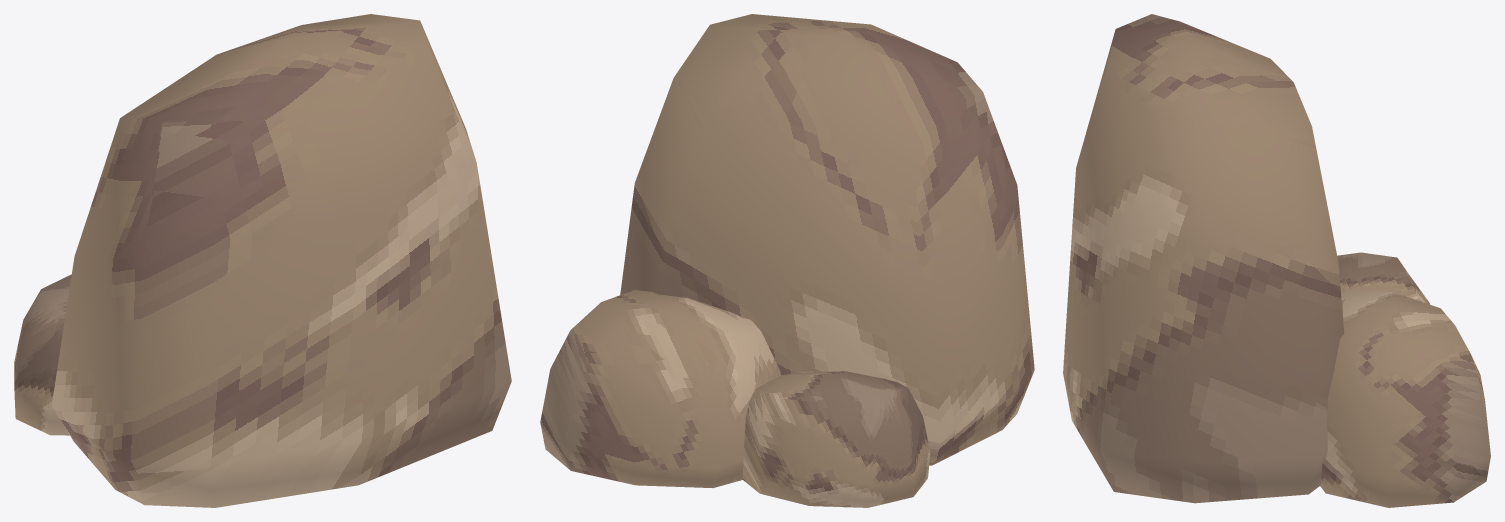
The model's file is rock1.glb.
The picture shows the model from 3 angles, left to right: view 1: azimuth 30°, elevation 25°; view 2: azimuth 150°, elevation 25°; view 3: azimuth 270°, elevation 25°; orthographic projection. The views are drawn at different scales.
Visible parts, largest first — view 1: Bombable Rock.001_Tiles2_0.001; view 2: Bombable Rock.001_Tiles2_0.001; view 3: Bombable Rock.001_Tiles2_0.001.
Boxes of the visible parts, <box> form: Bombable Rock.001_Tiles2_0.001: <box>14,14,511,507</box>; Bombable Rock.001_Tiles2_0.001: <box>540,14,1034,507</box>; Bombable Rock.001_Tiles2_0.001: <box>1063,14,1490,507</box>.
Size of the model in its own units: 0.0815 by 0.08 by 0.0823.
1 material, 1 textured.
